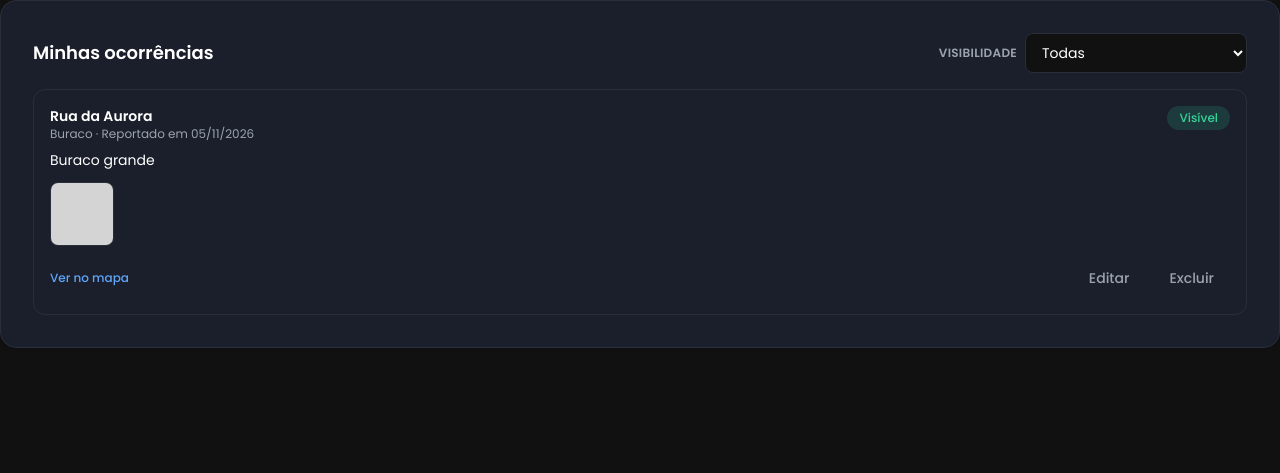
MinhasOcorrencias › após salvar mostra a descrição normalizada devolvida pelo servidor
Expected: the heading "Rua da Aurora" is shown, [50,106,152,126]
Click the button "Editar": (1109, 278) [1073,258,1145,298]
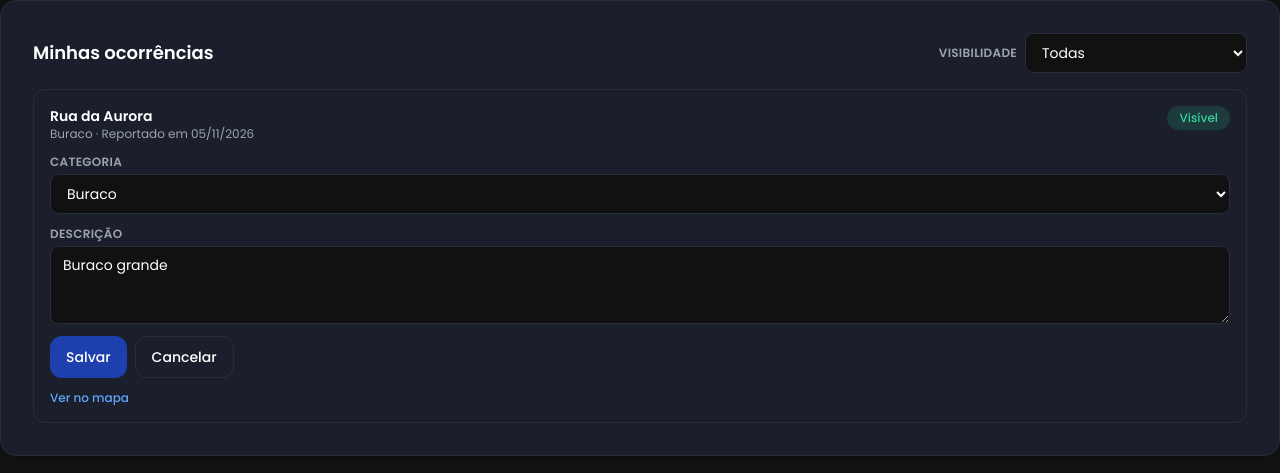
Replace the text in the text box labelled "Descrição" with "  Texto normalizado  ": (640, 285) [50,246,1230,324]
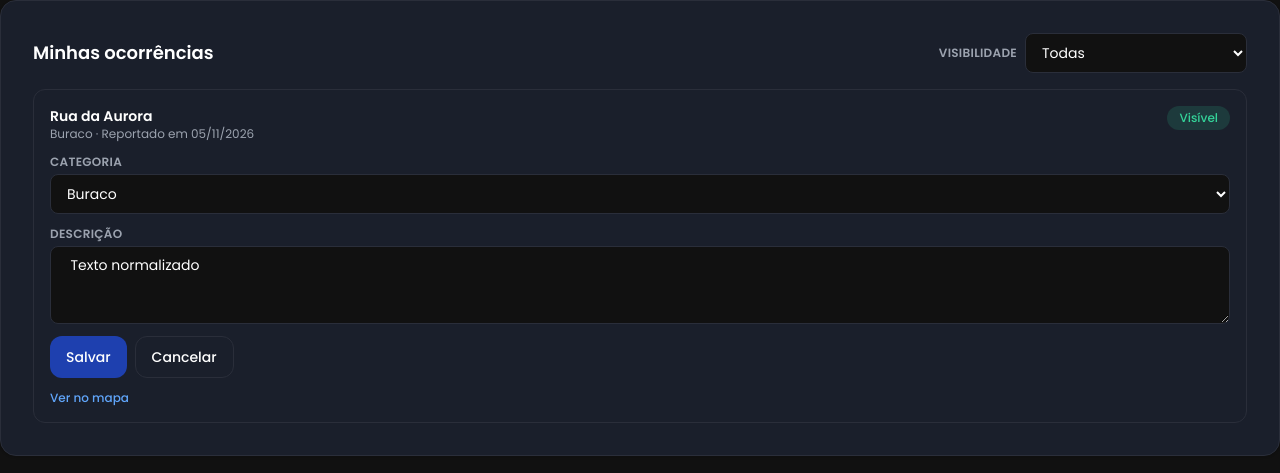
Click the button "Salvar": (88, 357) [50,336,127,378]
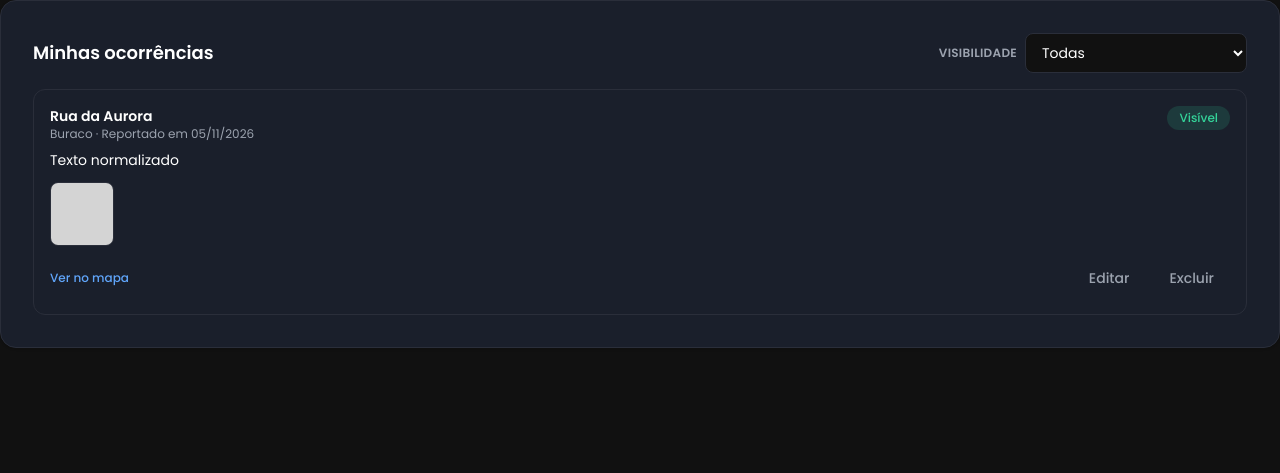
Expected: the text "Texto normalizado" is shown, [50,150,179,170]
